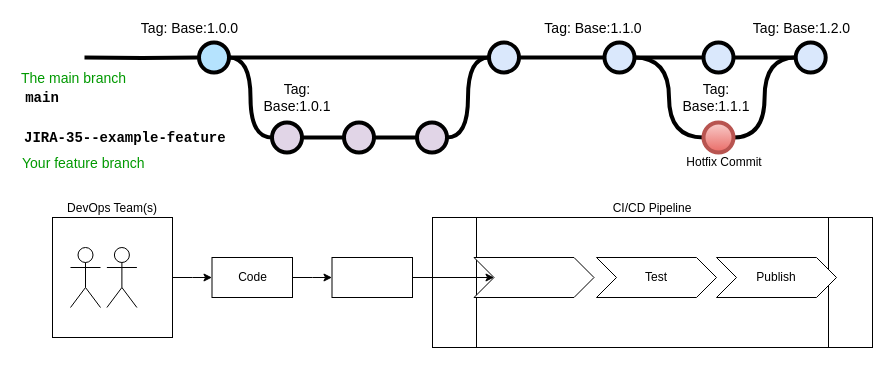
This 890x365 diagram has some shape labels left out. Here are the shapes that lost their labels. From the top down, the box of each, then its label:
(331, 256, 412, 298): git repo
(473, 256, 594, 298): Build
